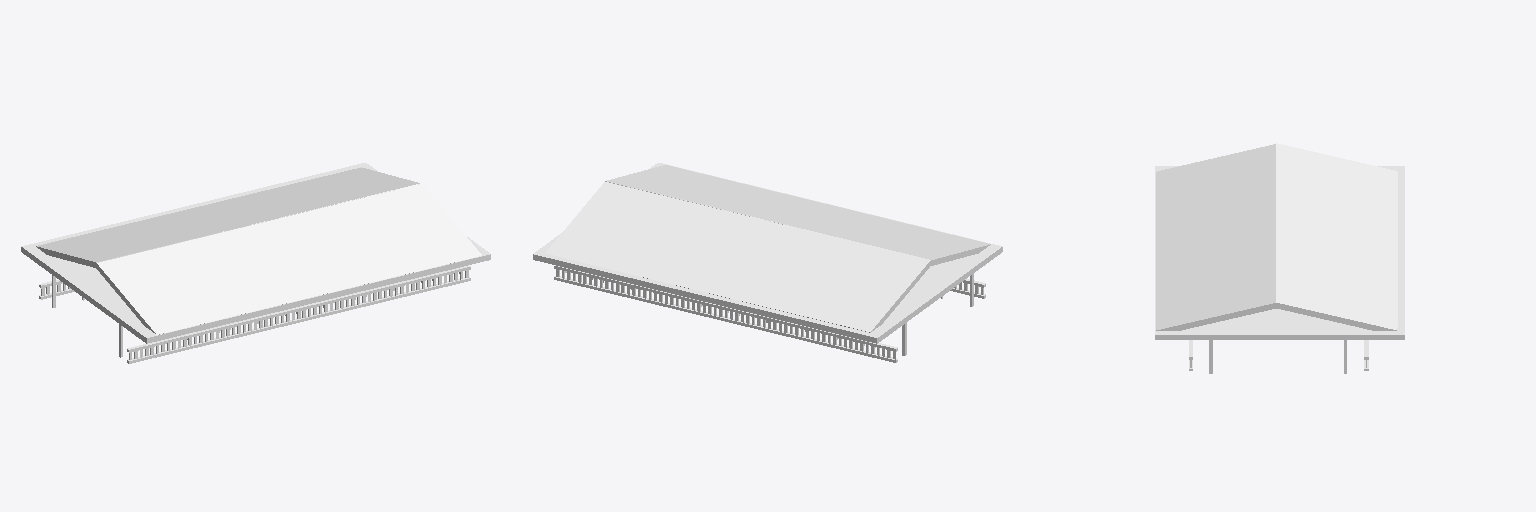
Rendered from daytrai.obj.
The picture shows the model from 3 angles: view 1: azimuth 30°, elevation 25°; view 2: azimuth 150°, elevation 25°; view 3: azimuth 270°, elevation 25°; orthographic projection.
Parts seen in each view (by area): view 1: obj172, obj173, obj171, obj1, obj129; view 2: obj173, obj172, obj171, obj130, obj65; view 3: obj173, obj172, obj171.
Boxes of the visible parts, x1,y1,x2,y2 form: obj172: [96, 183, 481, 334]; obj173: [36, 167, 419, 267]; obj171: [21, 163, 490, 343]; obj1: [127, 265, 470, 352]; obj129: [127, 277, 470, 363]; obj173: [546, 181, 931, 332]; obj172: [605, 165, 990, 265]; obj171: [533, 163, 1002, 343]; obj130: [554, 276, 897, 362]; obj65: [554, 265, 897, 351]; obj173: [1276, 143, 1397, 330]; obj172: [1156, 144, 1278, 330]; obj171: [1155, 166, 1404, 339].
Bounding box in the file's own units: 63.6 × 12.03 × 40.